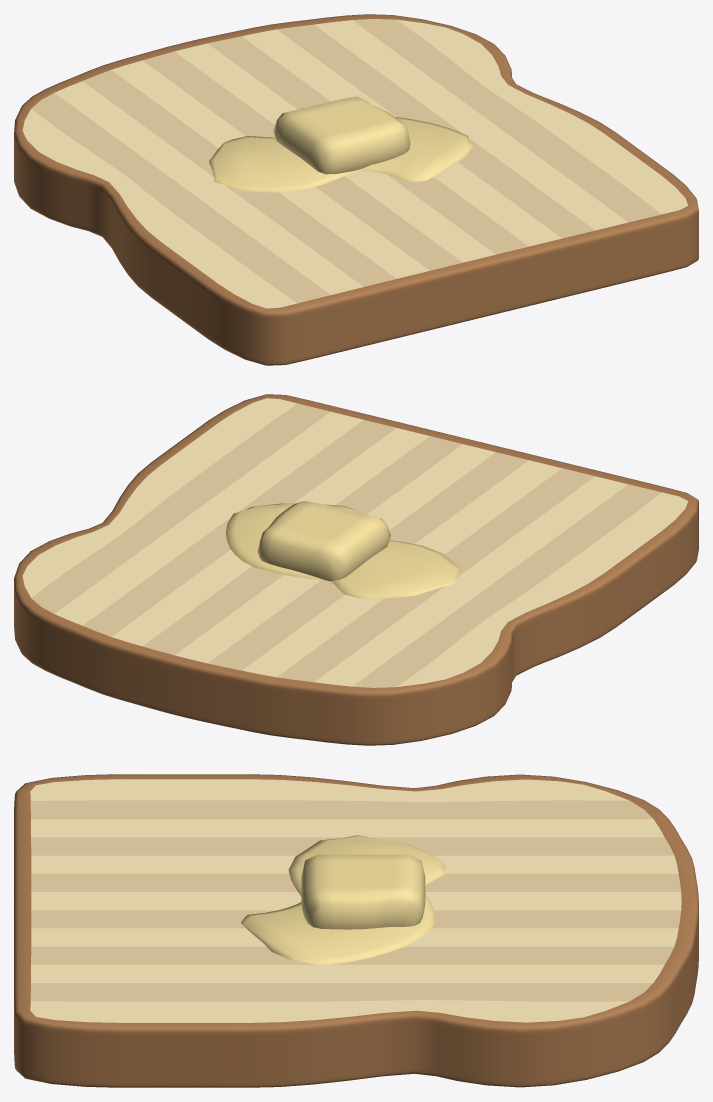
3 views of the same model, one above another, from view 1: azimuth 30°, elevation 25°; view 2: azimuth 150°, elevation 25°; view 3: azimuth 270°, elevation 25° (orthographic). The views are drawn at different scales.
Visible parts, largest first — view 1: Box001, Line001, Box002; view 2: Box001, Line001, Box002; view 3: Box001, Line001, Box002.
Boxes of the visible parts, box(x1,y1,x2,y2) form: Box001: box(14, 14, 698, 365); Line001: box(209, 117, 473, 192); Box002: box(273, 96, 410, 174); Box001: box(14, 394, 698, 745); Line001: box(226, 503, 461, 599); Box002: box(257, 501, 390, 581); Box001: box(14, 774, 698, 1087); Line001: box(241, 835, 445, 965); Box002: box(301, 854, 425, 929).
Bounding box in the file's own units: 52.21 × 8.82 × 58.95.
